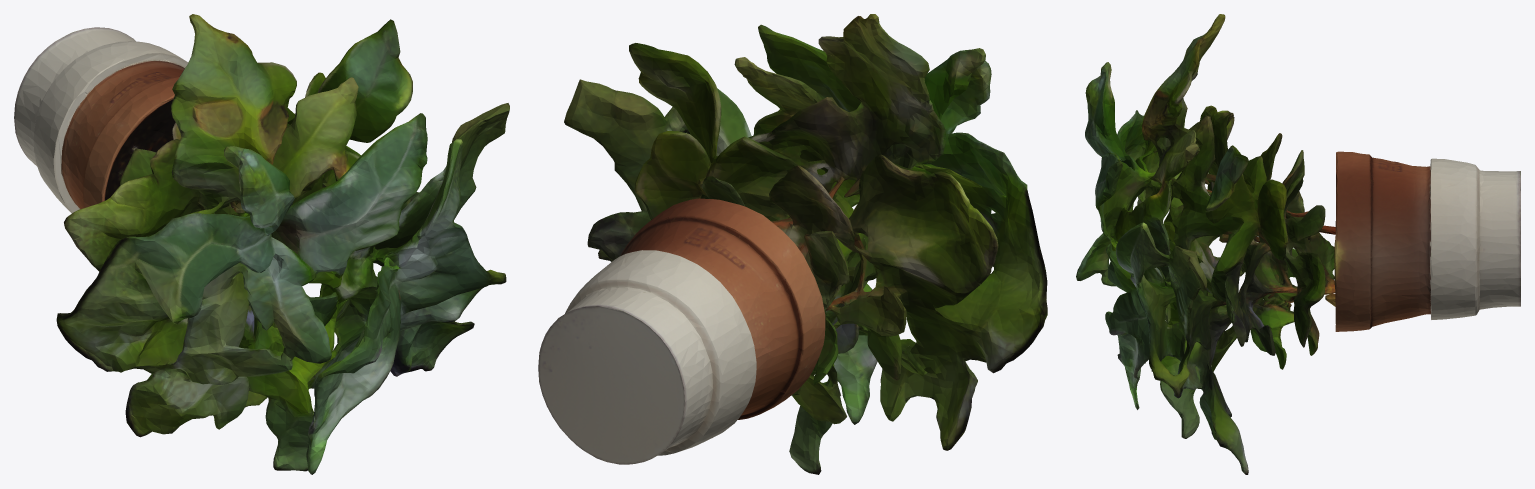
The model's file is Tree_rotated.glb.
3 views of the same model, side by side, from view 1: azimuth 30°, elevation 25°; view 2: azimuth 150°, elevation 25°; view 3: azimuth 270°, elevation 25° (orthographic). The views are drawn at different scales.
Parts seen in each view (by area): view 1: world; view 2: world; view 3: world.
Boxes of the visible parts, left/top/right/bottom form: world: left=14, top=14, right=509, bottom=474; world: left=538, top=14, right=1047, bottom=474; world: left=1076, top=14, right=1520, bottom=474.
Bounding box in the file's own units: 0.9774 × 0.9611 × 1.
Materials: 1 (1 with a texture image).
